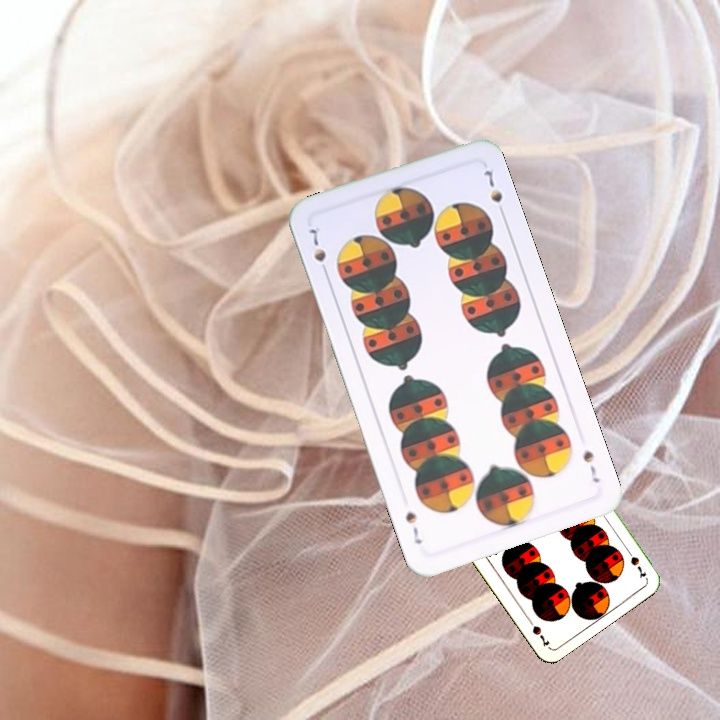S7: (306, 224, 331, 279), (621, 544, 649, 581), (579, 447, 603, 486)
